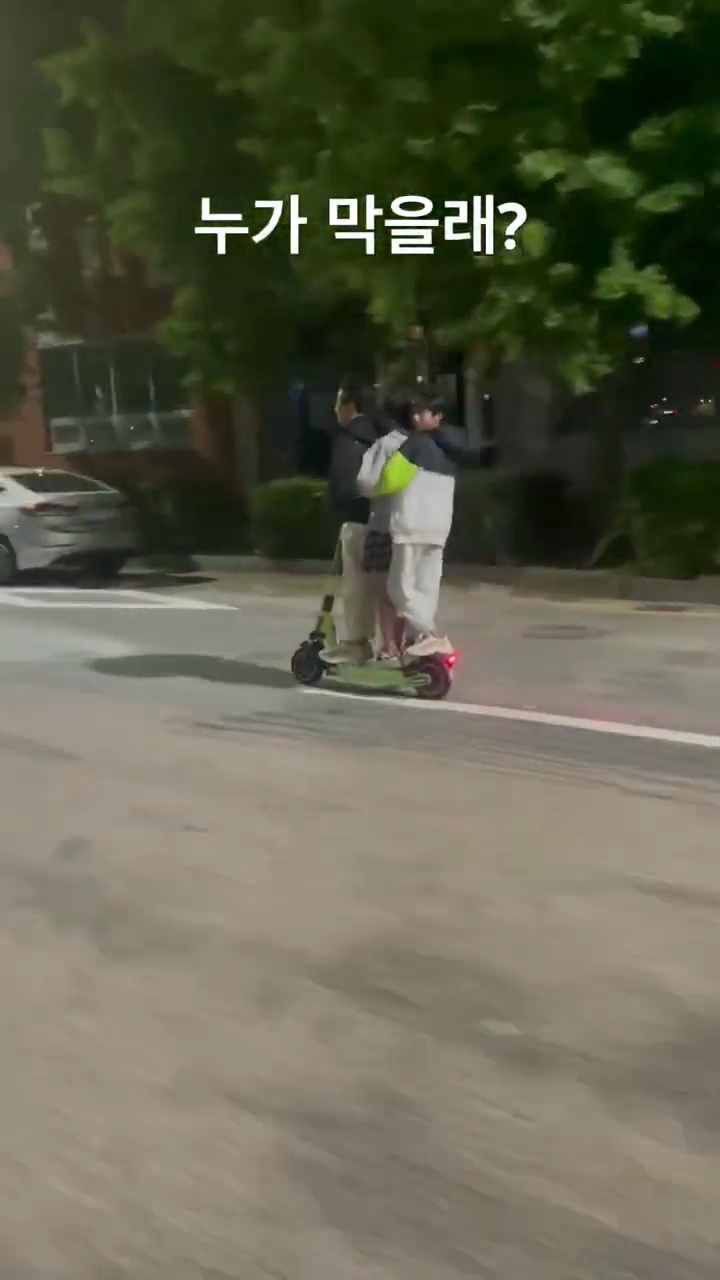multiple: (284, 372, 480, 697)
